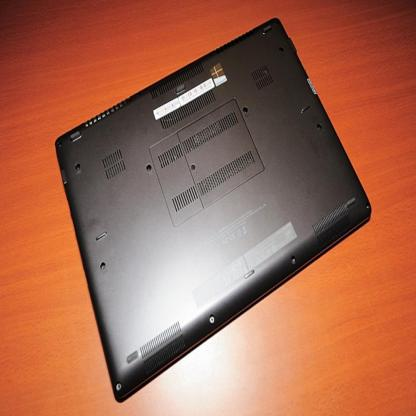board: (54, 10, 366, 415)
